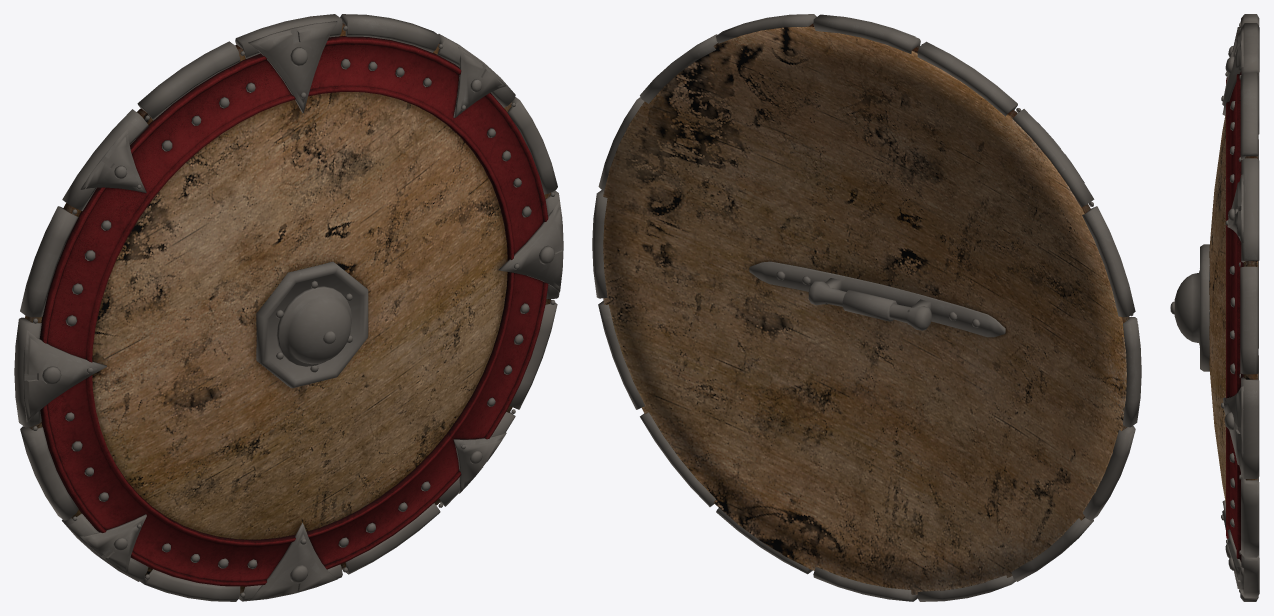
The model's file is color3.glb.
The picture shows the model from 3 angles, left to right: view 1: azimuth 30°, elevation 25°; view 2: azimuth 150°, elevation 25°; view 3: azimuth 270°, elevation 25°; orthographic projection. The views are drawn at different scales.
Parts seen in each view (by area): view 1: Escudo_Madera.006, BandaRoja.005, Aro.005, Escudo_Triangulos.005, Centro.005, Remaches.005; view 2: Escudo_Madera.006, Aro.005, Agarradera.005; view 3: Aro.005, BandaRoja.005, Escudo_Madera.006, Escudo_Triangulos.005, Centro.005, Remaches.005.
Part boxes in pixels (box(x1,y1,x2,y2)): Escudo_Madera.006: box(25, 23, 550, 593); BandaRoja.005: box(39, 36, 548, 586); Aro.005: box(14, 14, 562, 601); Escudo_Triangulos.005: box(23, 21, 563, 600); Centro.005: box(256, 261, 368, 388); Remaches.005: box(42, 47, 554, 583); Escudo_Madera.006: box(603, 23, 1129, 594); Aro.005: box(592, 14, 1141, 601); Agarradera.005: box(749, 261, 1005, 337); Aro.005: box(1238, 14, 1259, 601); BandaRoja.005: box(1226, 33, 1243, 561); Escudo_Madera.006: box(1209, 114, 1257, 502); Escudo_Triangulos.005: box(1222, 26, 1243, 593); Centro.005: box(1174, 244, 1209, 371); Remaches.005: box(1170, 46, 1235, 570).
Size of the model in its own units: 2 by 2 by 0.3027.
3 materials, 3 textured.
